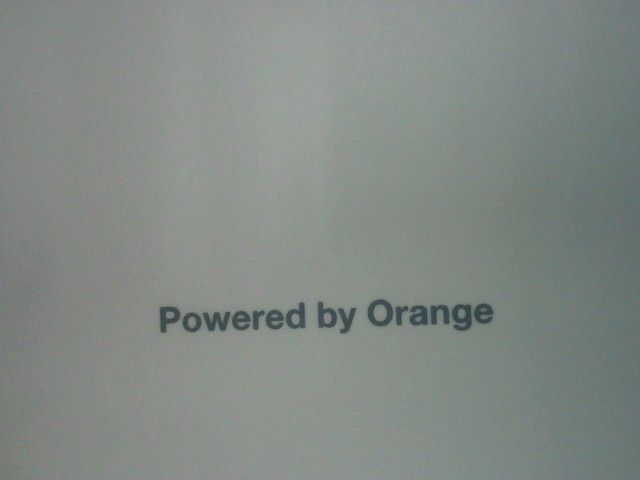AS_PowerByOrange: (144, 281, 511, 344)
